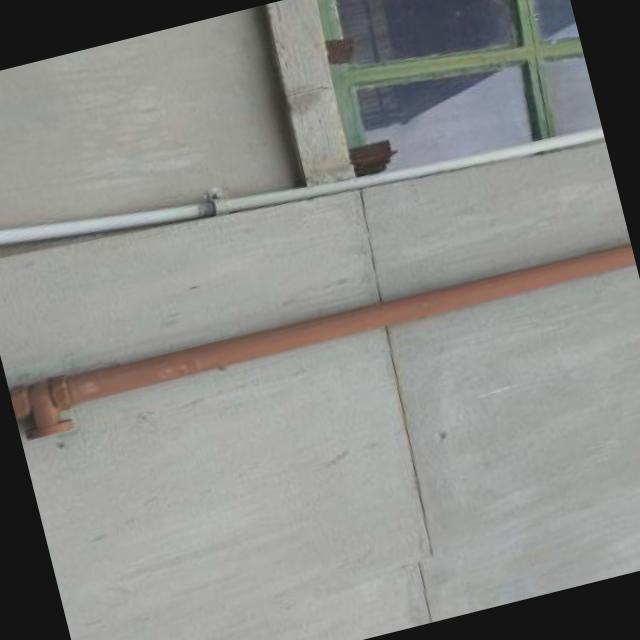gas: (7, 243, 636, 417)
